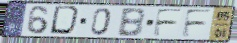0: (90, 7, 113, 36)
6: (26, 5, 51, 36)
B: (116, 7, 147, 38)
D: (48, 5, 84, 37)
F: (151, 8, 186, 39), (180, 8, 215, 39)
